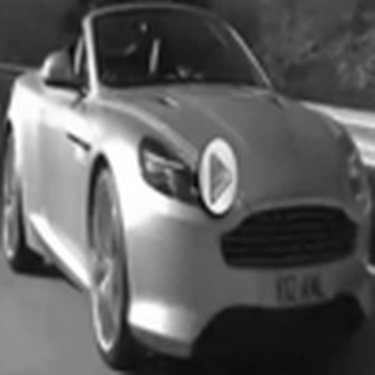car: (5, 5, 371, 371)
